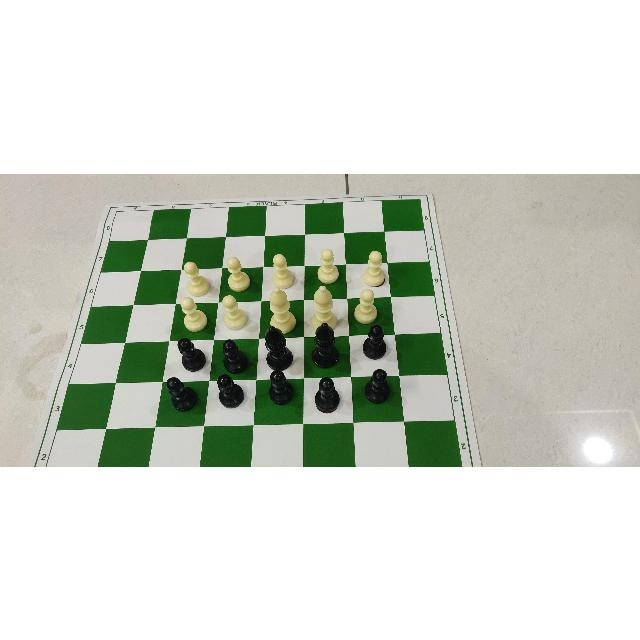black-bishop: (261, 324, 299, 372), (312, 321, 340, 365)
black-pawn: (163, 376, 199, 416), (214, 371, 247, 410), (314, 375, 346, 414), (266, 368, 297, 407), (174, 335, 206, 372), (365, 367, 397, 403), (220, 339, 252, 373), (361, 323, 386, 359)
white-bishop: (311, 284, 343, 329), (263, 286, 295, 330)
white-pawn: (177, 292, 209, 330), (219, 293, 254, 327), (356, 286, 386, 322), (182, 259, 210, 297), (224, 253, 251, 292), (360, 247, 387, 283), (270, 251, 297, 287), (318, 246, 341, 284)
